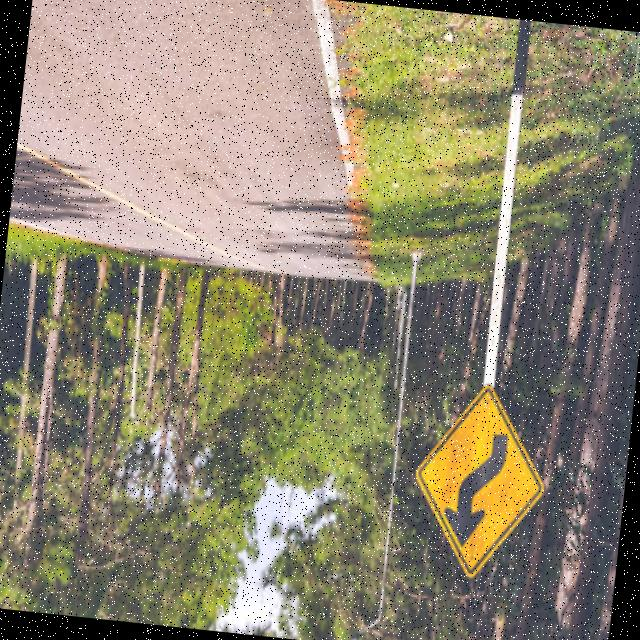left_sharp_curve: (391, 372, 556, 586)
